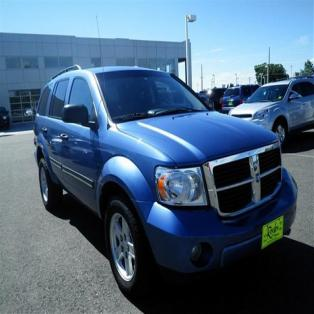Auto: (34, 64, 298, 300)
